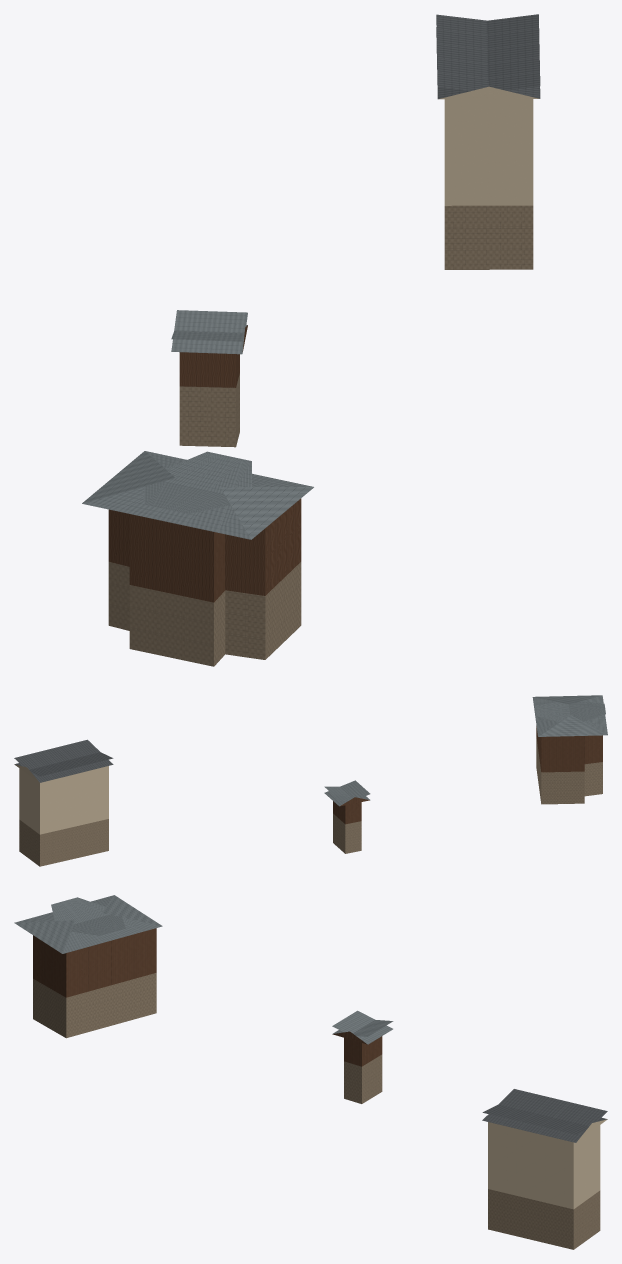
Rendered from bld_c-3_17_534.gltf.
3 renders of one model, top to bottom at view 1: azimuth 30°, elevation 25°; view 2: azimuth 150°, elevation 25°; view 3: azimuth 270°, elevation 25°, orthographic. The views are drawn at different scales.
Visible parts, largest first — view 1: bld_c-3_17_534; view 2: bld_c-3_17_534; view 3: bld_c-3_17_534.
Part boxes in pixels (x1,y1,x2,y2): bld_c-3_17_534: (82, 14, 540, 666); bld_c-3_17_534: (14, 695, 607, 866); bld_c-3_17_534: (14, 895, 607, 1249).
Size of the model in its own units: 68.45 by 14.8 by 67.77.
7 materials, 7 textured.
